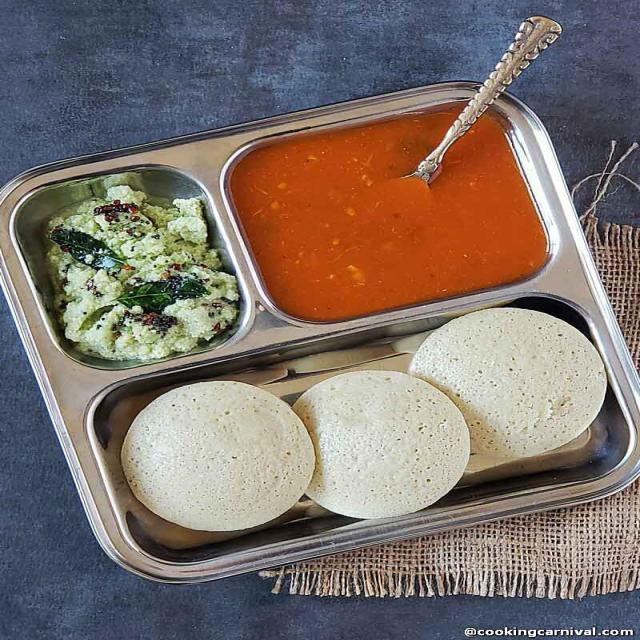chutney: (42, 195, 226, 356)
idli: (402, 304, 610, 468), (120, 376, 314, 532), (285, 363, 471, 522)
